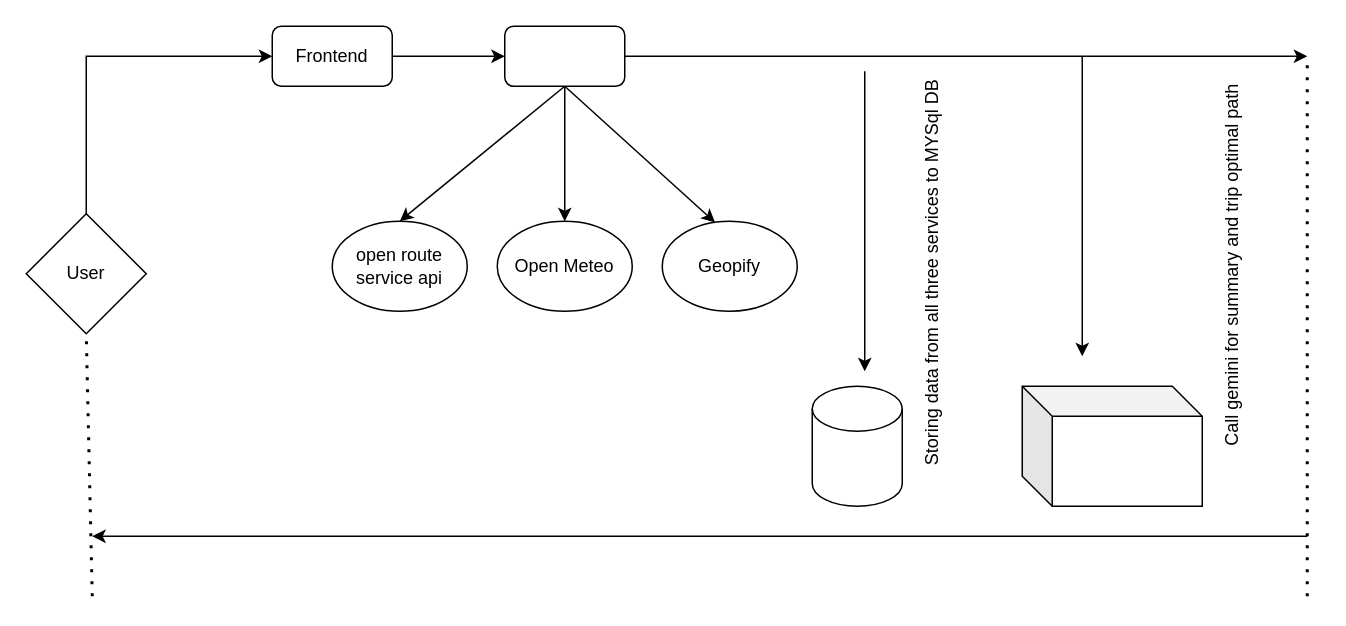
The diagram is 1346 pixels wide and 626 high, and some of its shapes have lost their labels. Here are the shapes that lost their labels. From the top down, the centre of each, then its label:
At [564,55]: "mulesoft".
At [856,445]: "MySql DB".
At [1111,445]: "Gemini".
